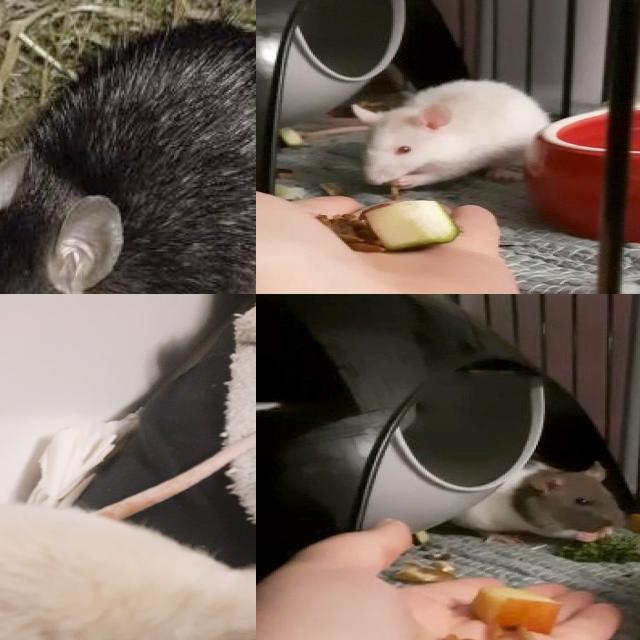rat: (0, 1, 256, 294), (0, 486, 256, 640), (353, 76, 563, 191), (449, 458, 624, 542)
